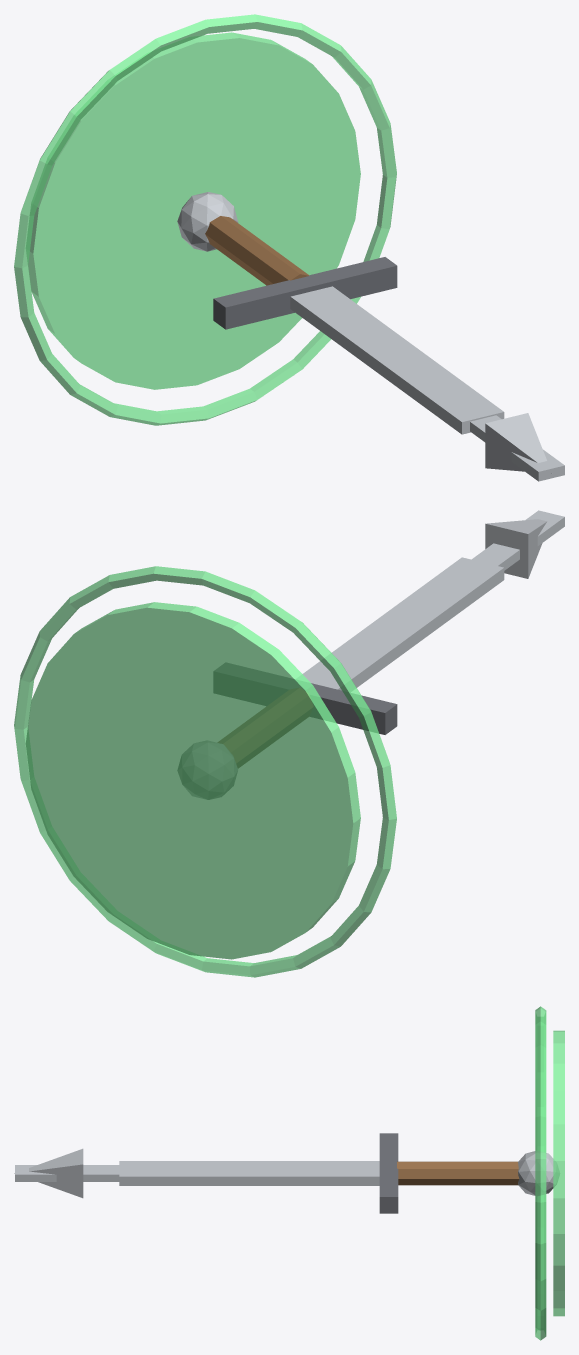
Rendered from weapon_pickup_long_sword_uncommon.glb.
3 views of the same model, one above another, from view 1: azimuth 30°, elevation 25°; view 2: azimuth 150°, elevation 25°; view 3: azimuth 270°, elevation 25° (orthographic). The views are drawn at different scales.
Visible parts, largest first — view 1: rarity_base_disc, rarity_orbit_ring, blade, guard, grip, tip, pommel, blade_length_marker; view 2: rarity_base_disc, rarity_orbit_ring, blade, guard, grip, pommel, tip, blade_length_marker; view 3: blade, rarity_orbit_ring, rarity_base_disc, grip, guard, pommel, tip, blade_length_marker.
Part boxes in pixels (<box>): rarity_base_disc: <box>26,32,360,389</box>; rarity_orbit_ring: <box>14,14,396,425</box>; blade: <box>290,286,504,434</box>; guard: <box>213,257,397,329</box>; grip: <box>205,216,309,285</box>; tip: <box>485,413,552,473</box>; pommel: <box>177,192,238,251</box>; blade_length_marker: <box>470,415,564,481</box>; rarity_base_disc: <box>25,602,360,959</box>; rarity_orbit_ring: <box>14,566,396,977</box>; blade: <box>297,557,504,691</box>; guard: <box>214,663,397,734</box>; grip: <box>218,688,313,767</box>; pommel: <box>178,741,237,799</box>; tip: <box>485,519,546,578</box>; blade_length_marker: <box>471,510,564,570</box>; blade: <box>119,1161,379,1185</box>; rarity_orbit_ring: <box>535,1006,546,1340</box>; rarity_base_disc: <box>553,1030,564,1316</box>; grip: <box>397,1161,519,1185</box>; guard: <box>379,1133,398,1213</box>; pommel: <box>518,1151,559,1195</box>; tip: <box>14,1148,83,1198</box>; blade_length_marker: <box>15,1165,119,1181</box>.
Bounding box in the file's own units: 1.45 × 1.45 × 2.38.
